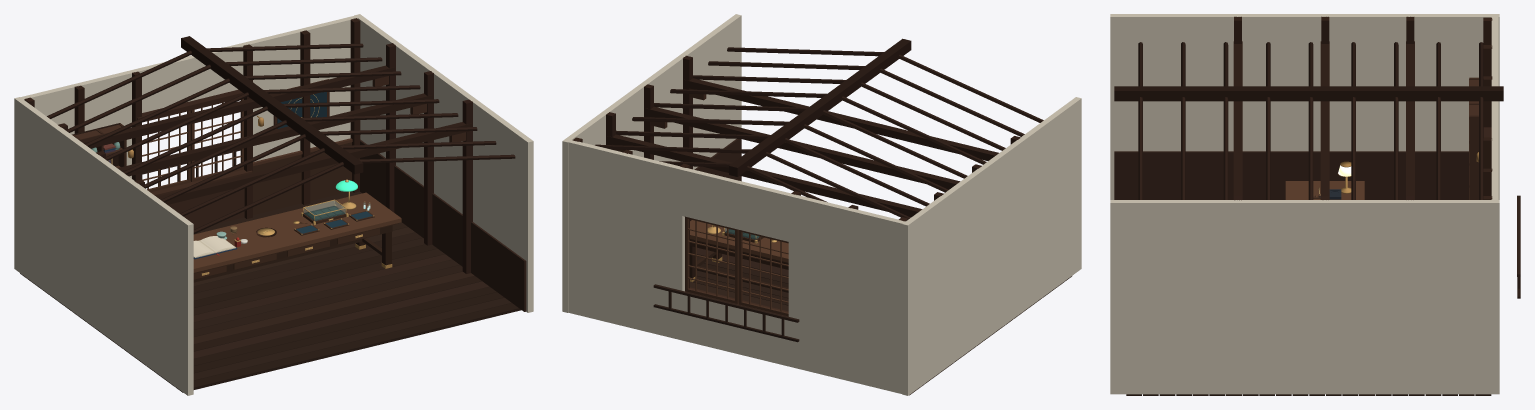
File: loft-sanctuary.glb
The picture shows the model from 3 angles, left to right: view 1: azimuth 30°, elevation 25°; view 2: azimuth 150°, elevation 25°; view 3: azimuth 270°, elevation 25°; orthographic projection. The views are drawn at different scales.
Visible parts, largest first — view 1: Loft_Cedar_Beams, Loft_Plaster_Walls, Desk_Top_Slab, Desk_Walnut_Frame, Window_Sash_R, Window_Sash_L, Loft_Room_Decor, Book_Moyan_Spread, Herbarium_Glass_Lid; view 2: Loft_Plaster_Walls, Loft_Cedar_Beams, Window_Sash_R, Window_Sash_L, Desk_Top_Slab, Desk_Walnut_Frame; view 3: Loft_Plaster_Walls, Loft_Cedar_Beams, Desk_Top_Slab.
Boxes of the visible parts, x1=… form: Loft_Cedar_Beams: x1=20, y1=18, x2=526, y2=392; Loft_Plaster_Walls: x1=14, y1=14, x2=533, y2=395; Desk_Top_Slab: x1=193, y1=192, x2=401, y2=272; Desk_Walnut_Frame: x1=193, y1=223, x2=398, y2=282; Window_Sash_R: x1=190, y1=98, x2=243, y2=181; Window_Sash_L: x1=142, y1=110, x2=190, y2=192; Loft_Room_Decor: x1=91, y1=92, x2=326, y2=164; Book_Moyan_Spread: x1=193, y1=236, x2=234, y2=256; Herbarium_Glass_Lid: x1=304, y1=200, x2=345, y2=220; Loft_Plaster_Walls: x1=562, y1=14, x2=1081, y2=395; Loft_Cedar_Beams: x1=572, y1=38, x2=1071, y2=395; Window_Sash_R: x1=685, y1=217, x2=738, y2=303; Window_Sash_L: x1=738, y1=230, x2=788, y2=316; Desk_Top_Slab: x1=690, y1=220, x2=788, y2=262; Desk_Walnut_Frame: x1=690, y1=239, x2=788, y2=292; Loft_Plaster_Walls: x1=1110, y1=14, x2=1499, y2=394; Loft_Cedar_Beams: x1=1114, y1=16, x2=1520, y2=395; Desk_Top_Slab: x1=1285, y1=181, x2=1364, y2=199.
Bounding box in the file's own units: 22.06 × 11.64 × 20.24.
